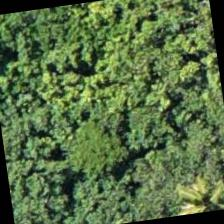Kelapa_Sawit: (155, 161, 223, 219)
